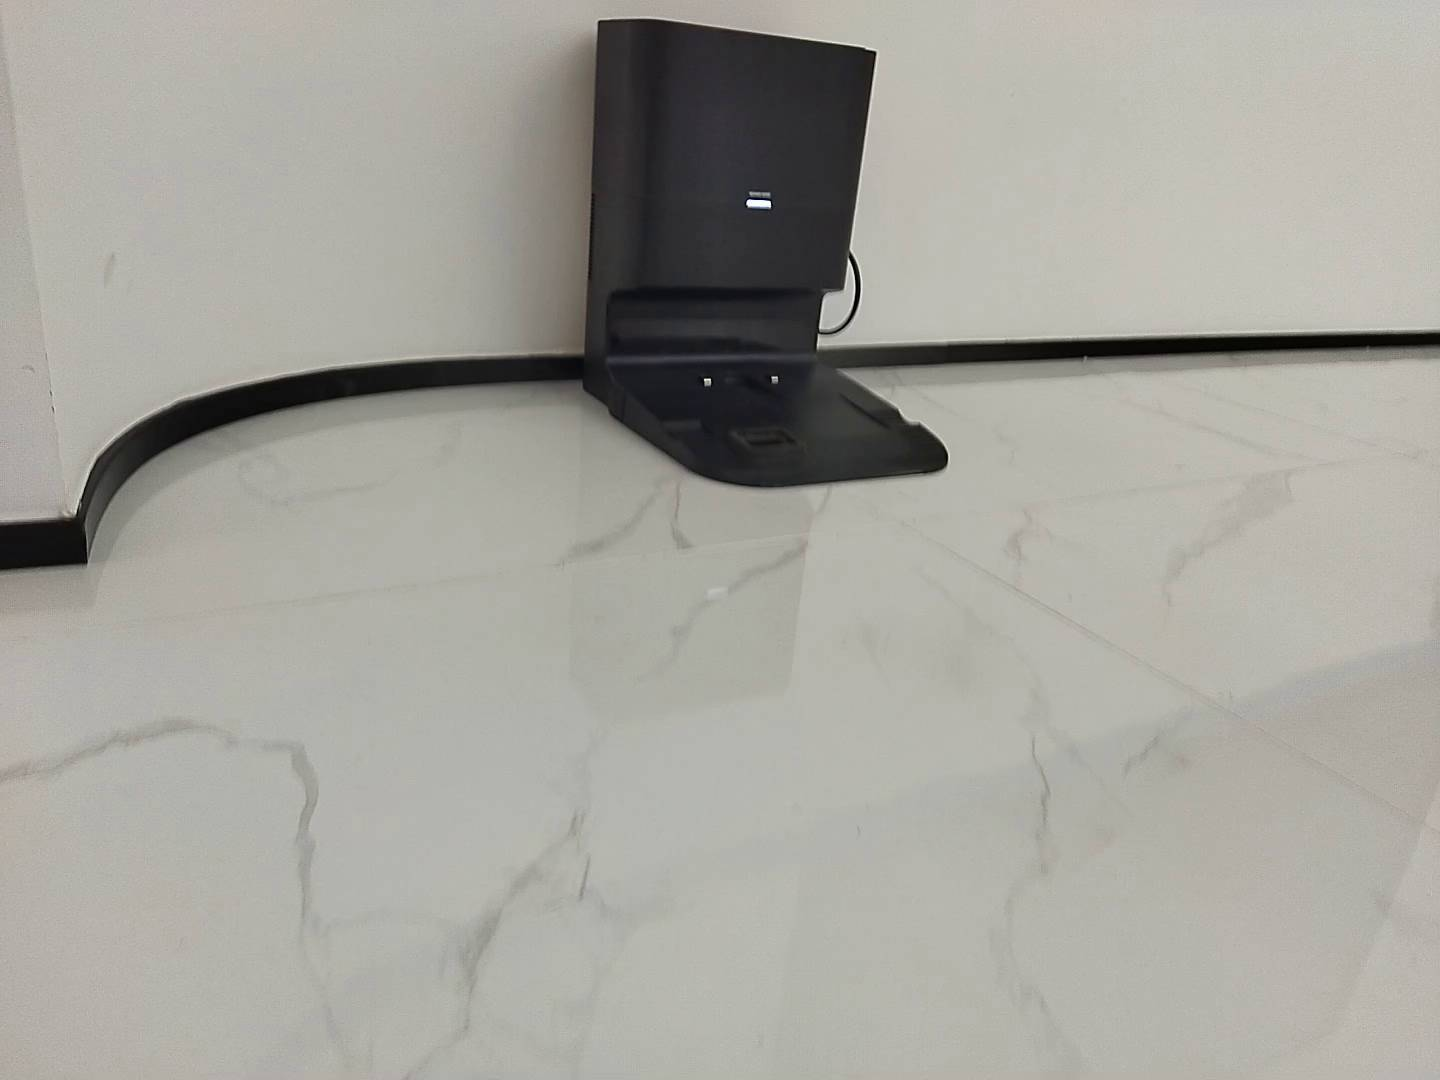dust collecting barrel: (579, 18, 951, 487)
